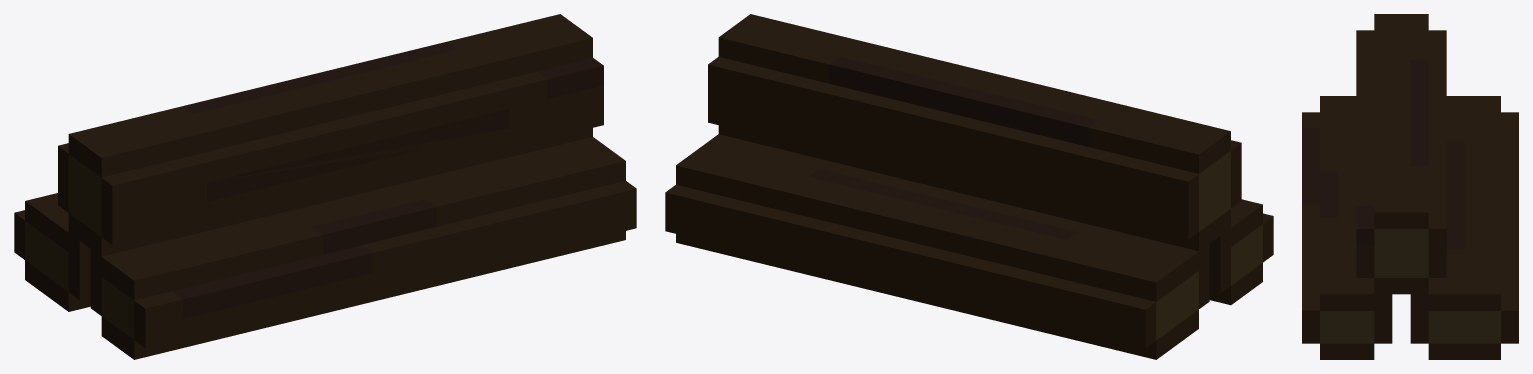
The model's file is log_maya.fbx.
3 views of the same model, side by side, from view 1: azimuth 30°, elevation 25°; view 2: azimuth 150°, elevation 25°; view 3: azimuth 270°, elevation 25° (orthographic). The views are drawn at different scales.
Visible parts, largest first — view 1: voxel_3_wood:Mesh; view 2: voxel_3_wood:Mesh; view 3: voxel_3_wood:Mesh.
Part boxes in pixels (x1,y1,x2,y2): voxel_3_wood:Mesh: (14, 14, 636, 359); voxel_3_wood:Mesh: (665, 14, 1273, 359); voxel_3_wood:Mesh: (1302, 14, 1518, 359).
Bounding box in the file's own units: 2.6 × 0.9 × 1.2.
